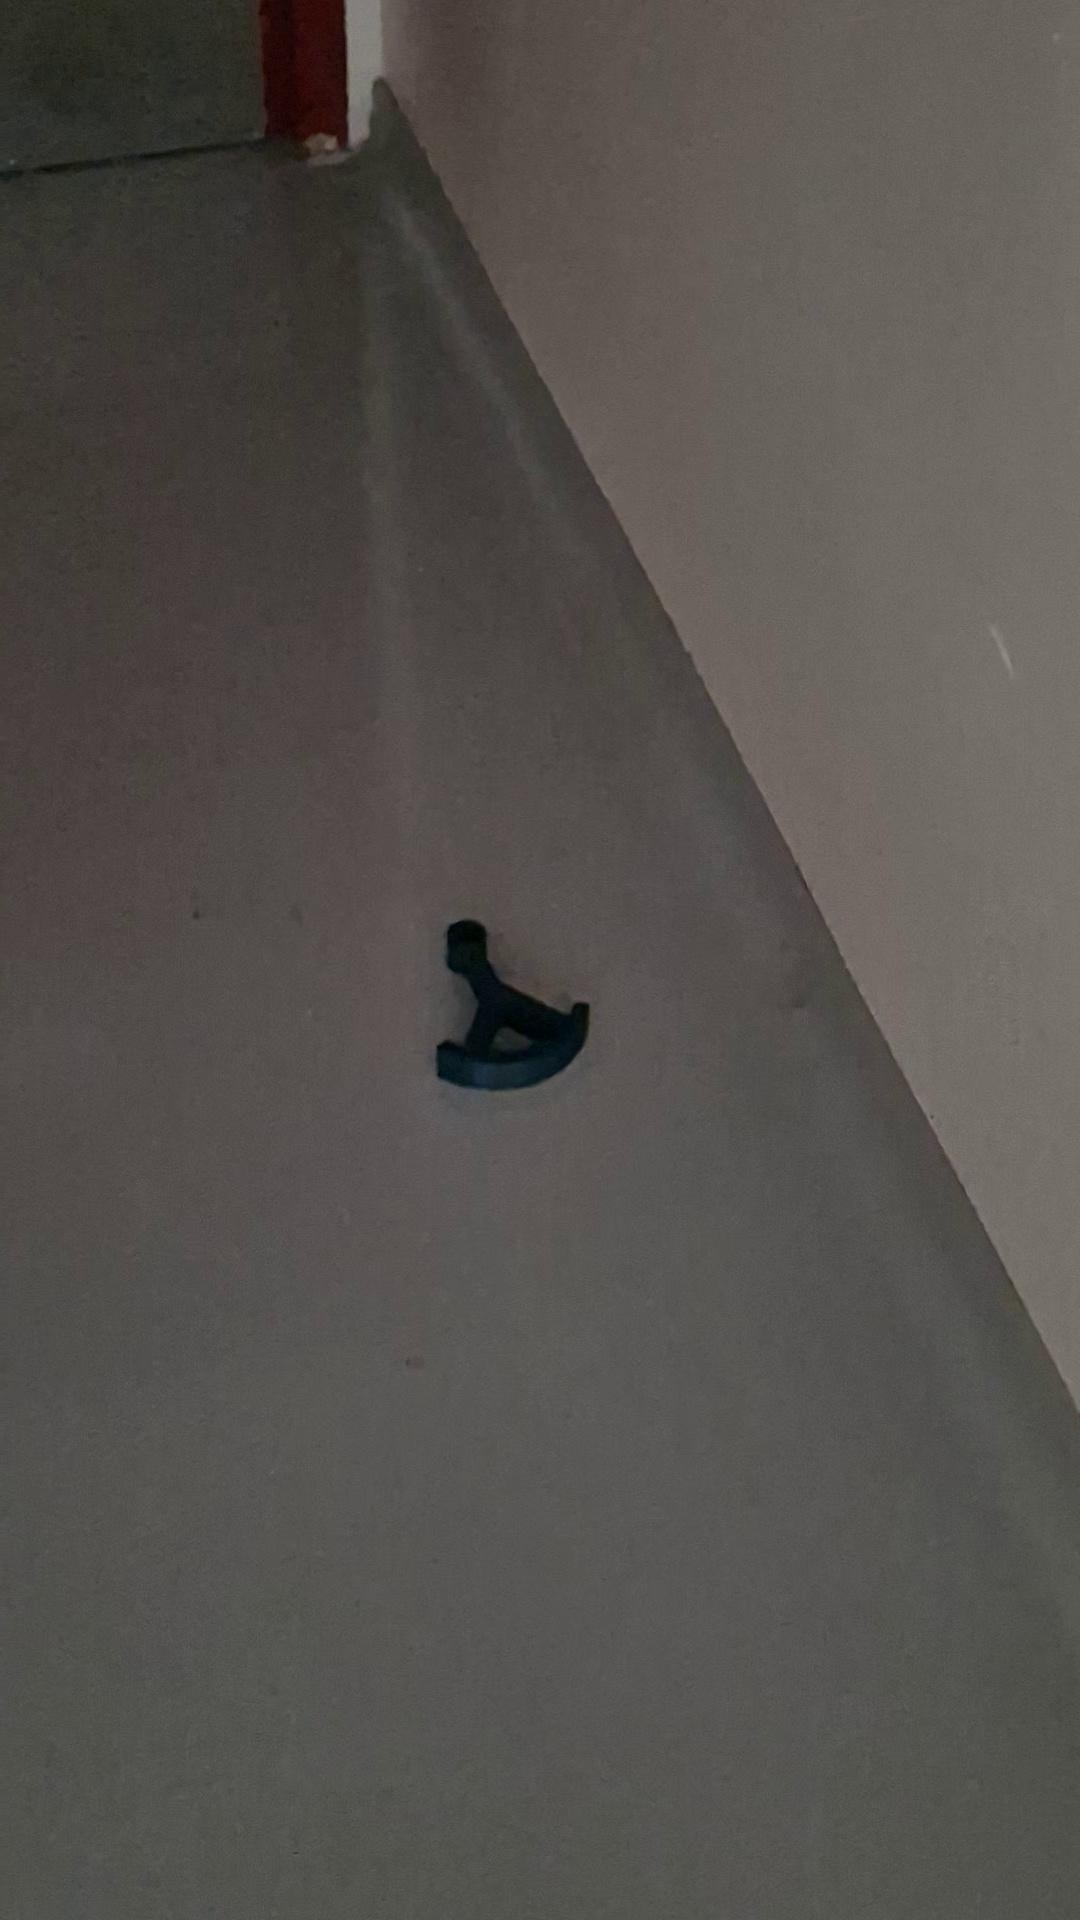Paddles: (433, 916, 592, 1093)
